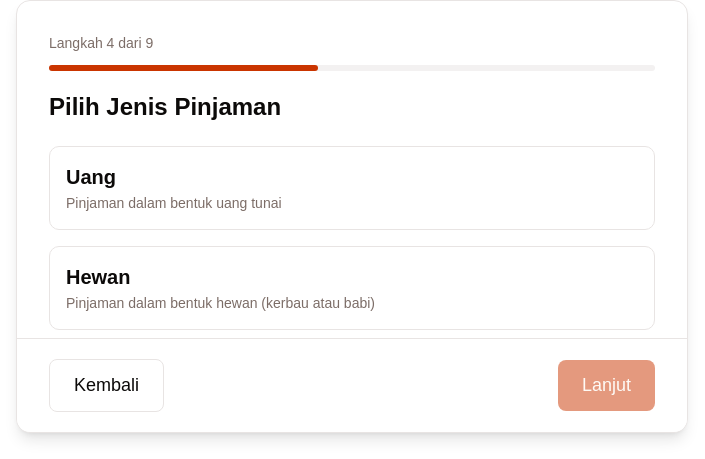
Test: LoanStep4Type — Requirement 6.5 / 6.6 › selecting "Hewan" marks it aria-selected and enables "Lanjut"
The width and height of the screenshot is (705, 459).
Click the option "Hewan Pinjaman dalam bentuk hewan (kerbau atau babi)": (98, 277) [49,246,655,330]
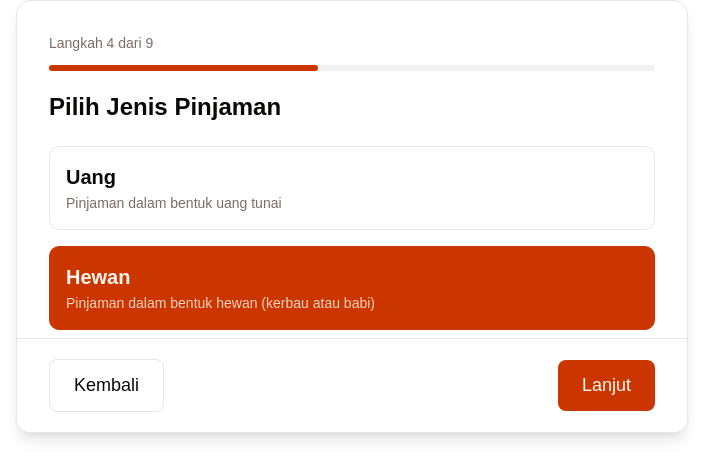
Expected: the button "Lanjut" is enabled, [558,360,655,411]
